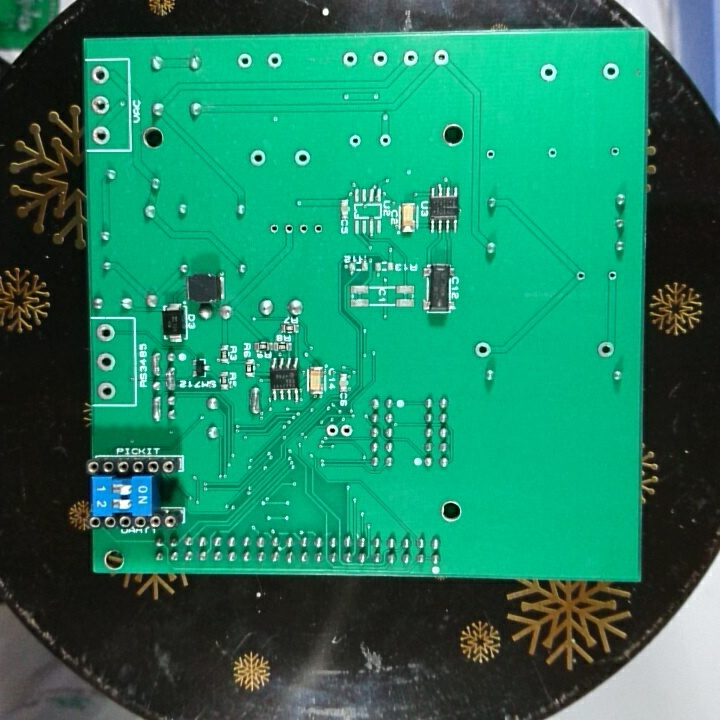F: (89, 123, 113, 148), (89, 92, 111, 118), (94, 379, 118, 402), (94, 320, 117, 344), (537, 61, 561, 84), (89, 62, 111, 87), (599, 58, 621, 83), (95, 351, 117, 374), (248, 146, 269, 169), (291, 147, 312, 169), (594, 339, 616, 360), (431, 46, 451, 69), (471, 339, 493, 359), (234, 51, 254, 72), (402, 47, 420, 70), (265, 50, 284, 71), (341, 49, 359, 69), (371, 48, 388, 69), (377, 130, 393, 150), (322, 421, 339, 439), (345, 132, 362, 150), (606, 143, 622, 160), (339, 422, 354, 440), (545, 144, 560, 162), (573, 267, 588, 284), (483, 146, 498, 162), (267, 220, 280, 238), (604, 268, 619, 283), (311, 220, 325, 236), (282, 220, 296, 236), (297, 220, 309, 238)
P: (247, 383, 262, 418), (148, 393, 164, 423), (149, 349, 164, 378), (164, 364, 177, 392)
